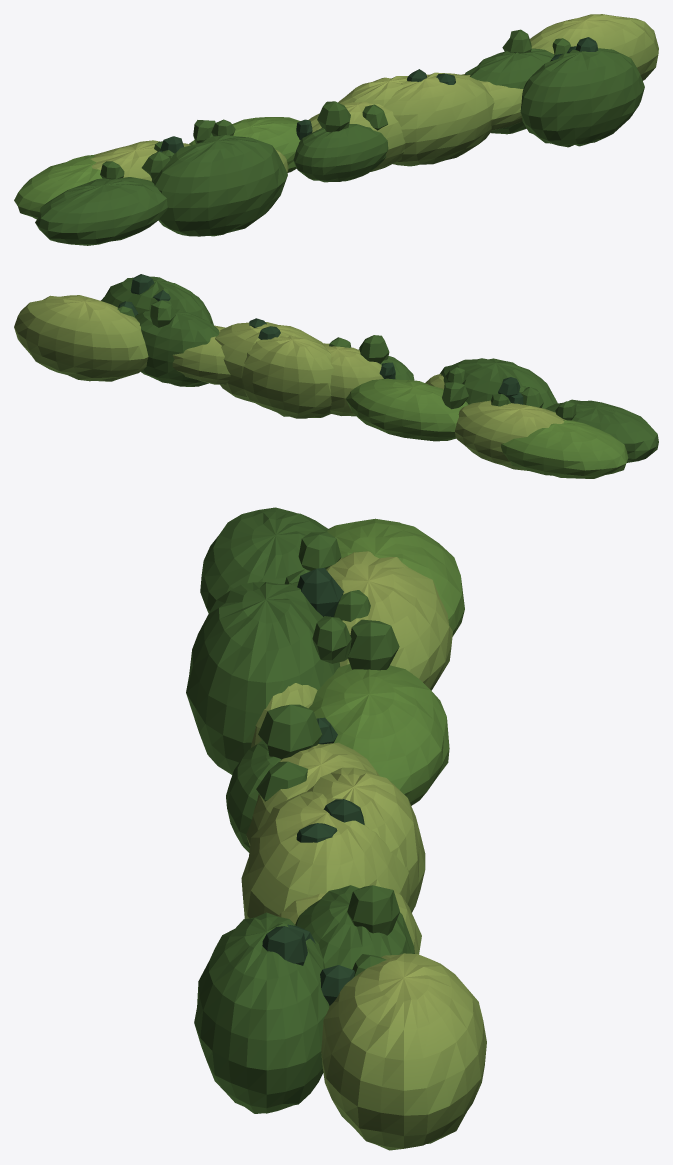
The model's file is hills.glb.
The picture shows the model from 3 angles, top to bottom: view 1: azimuth 30°, elevation 25°; view 2: azimuth 150°, elevation 25°; view 3: azimuth 270°, elevation 25°; orthographic projection. The views are drawn at different scales.
Visible parts, largest first — view 1: hills; view 2: hills; view 3: hills.
Part boxes in pixels (x1,y1,x2,y2): hills: (14,14,658,245); hills: (14,274,658,478); hills: (186,507,486,1150).
Size of the model in its own units: 112 by 16.12 by 24.03.
